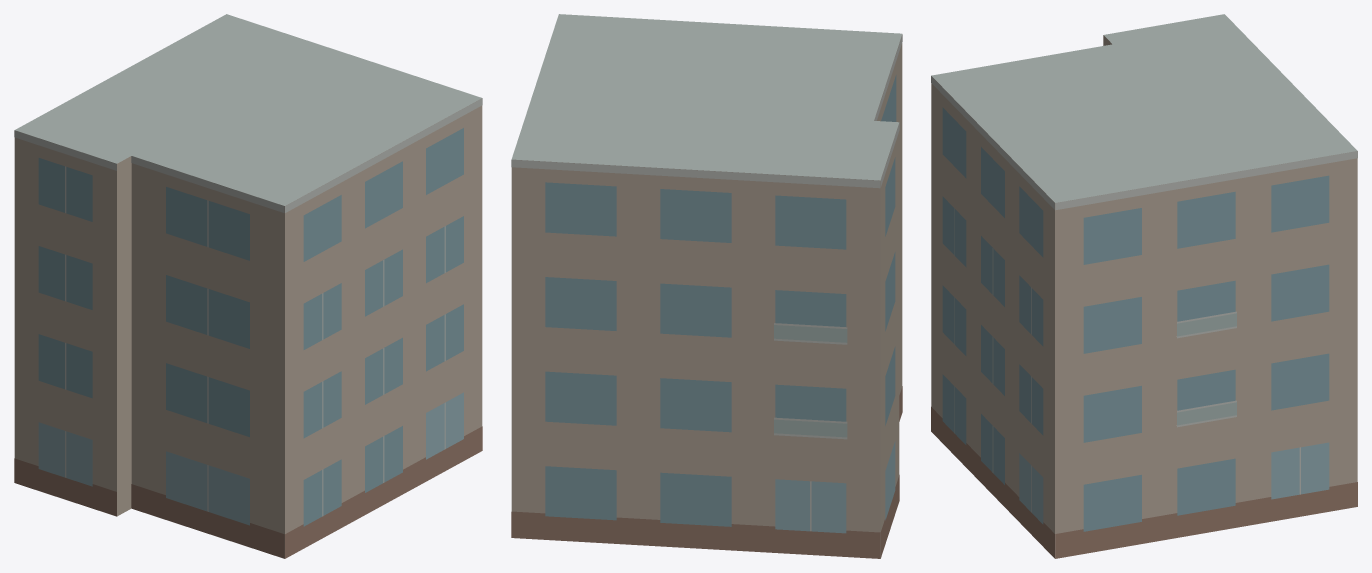
The model's file is survey-upis-32997283.glb.
3 renders of one model, left to right at view 1: azimuth 30°, elevation 25°; view 2: azimuth 150°, elevation 25°; view 3: azimuth 270°, elevation 25°, orthographic. The views are drawn at different scales.
Parts seen in each view (by area): view 1: survey-upis-32997283.tmp; view 2: survey-upis-32997283.tmp; view 3: survey-upis-32997283.tmp.
Boxes of the visible parts, <box> form: survey-upis-32997283.tmp: <box>14,14,482,558</box>; survey-upis-32997283.tmp: <box>511,14,902,558</box>; survey-upis-32997283.tmp: <box>931,14,1357,558</box>.
Size of the model in its own units: 13.56 by 11.9 by 12.94.
